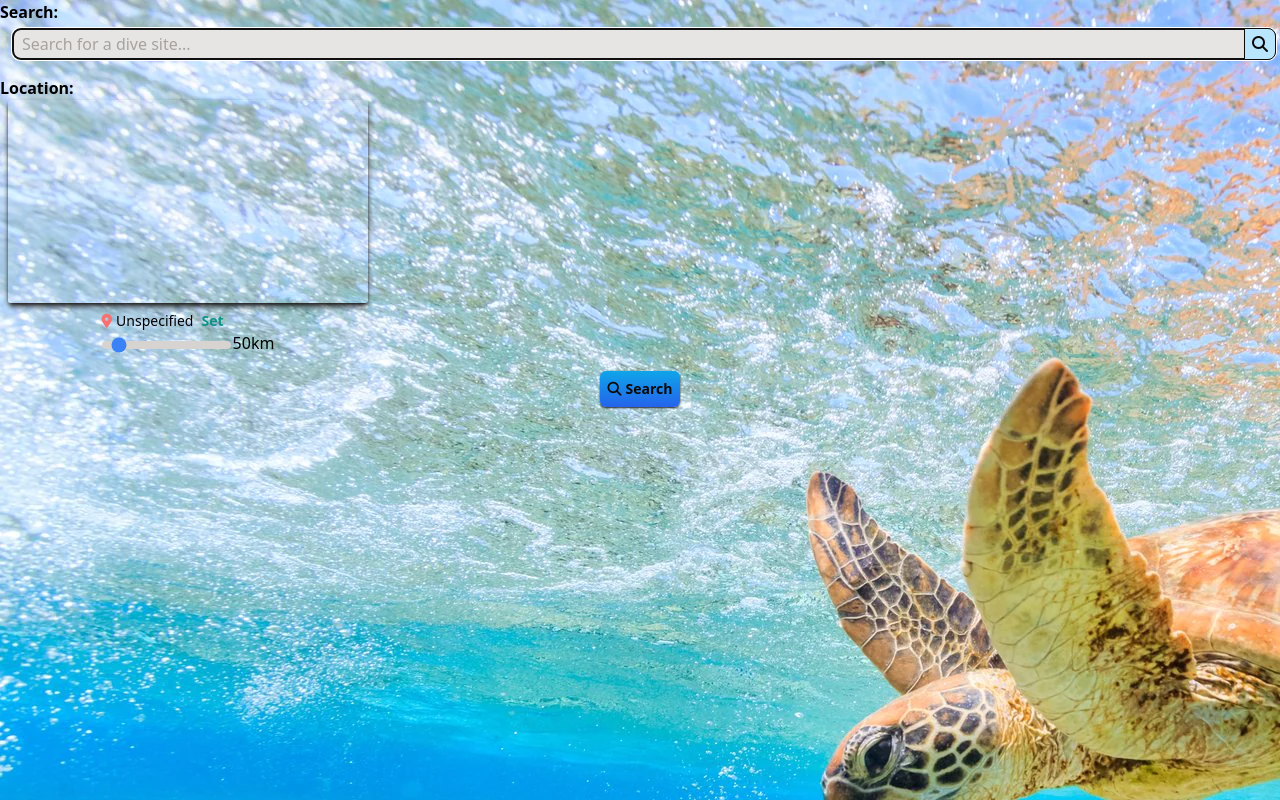
Test: SearchDiveSitesForm component › will show a message if no results are returned
The width and height of the screenshot is (1280, 800).
Click the button with test id "search-sites". click: (640, 388)
box: x1=600 y1=370 x2=680 y2=406
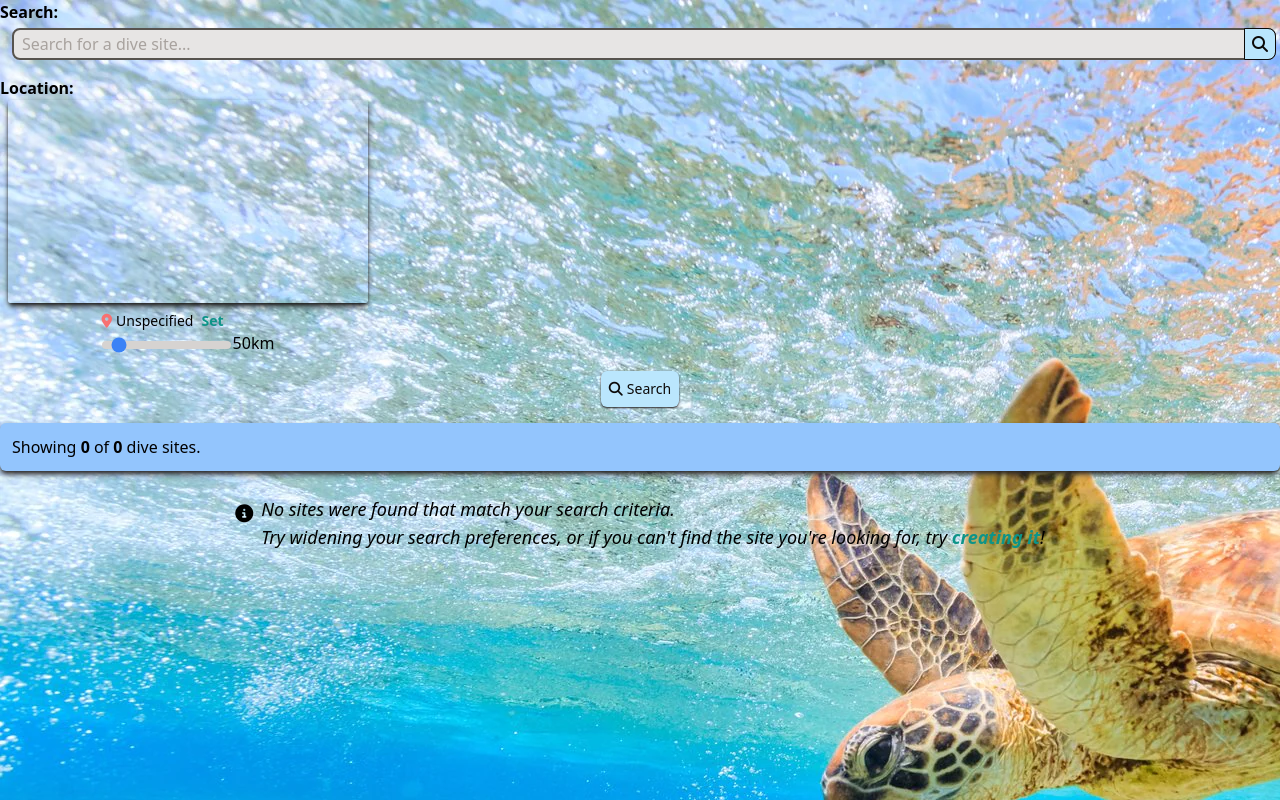
Now the element with test id "search-sites-no-results" is shown, box x1=235 y1=496 x2=1045 y2=548
Now the element with test id "search-sites-counts" reads "Showing 0 of 0 dive sites.", box x1=12 y1=434 x2=200 y2=458
